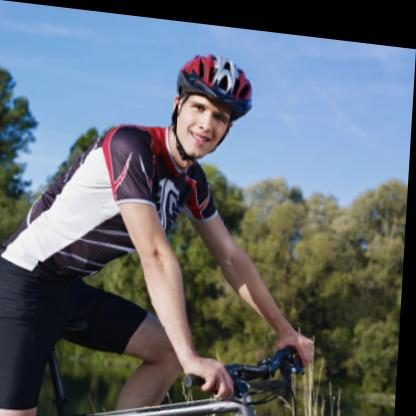With Helmet: (171, 43, 261, 165)
